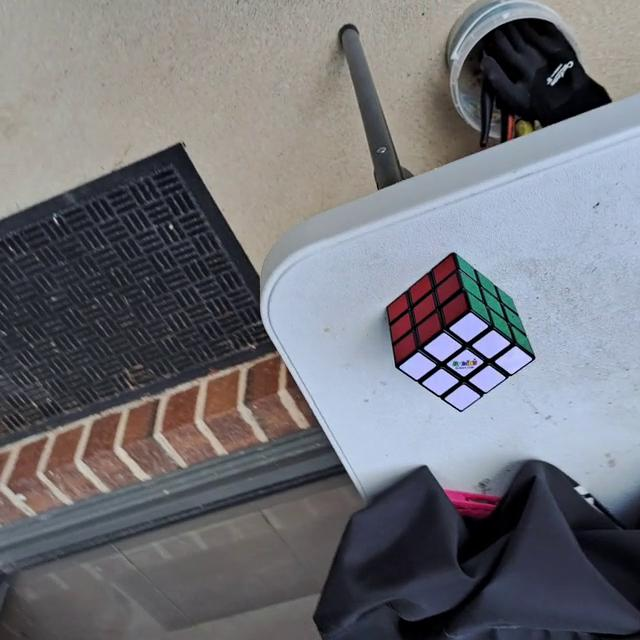rubix_cube: (384, 252, 537, 414)
